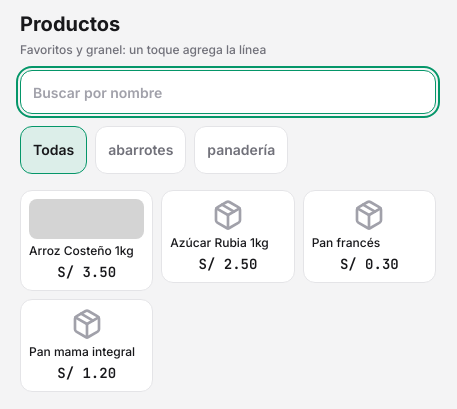
Test case: ProductCatalogScreen › filters by name synchronously as each character is typed, without waiting for anything
The image size is (457, 409).
expect the number of buttons with test id "product-tile" is 4: met, box x1=20 y1=190 x2=153 y2=291; x1=161 y1=190 x2=295 y2=283; x1=303 y1=190 x2=436 y2=283; x1=20 y1=299 x2=153 y2=392
Type "pan" into the search field named "Buscar producto" at (228, 92), box x1=20 y1=70 x2=436 y2=114
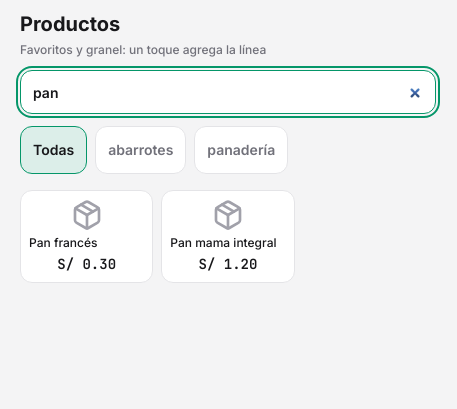
expect the number of buttons with test id "product-tile" is 2: met, box x1=20 y1=190 x2=153 y2=283; x1=161 y1=190 x2=295 y2=283
